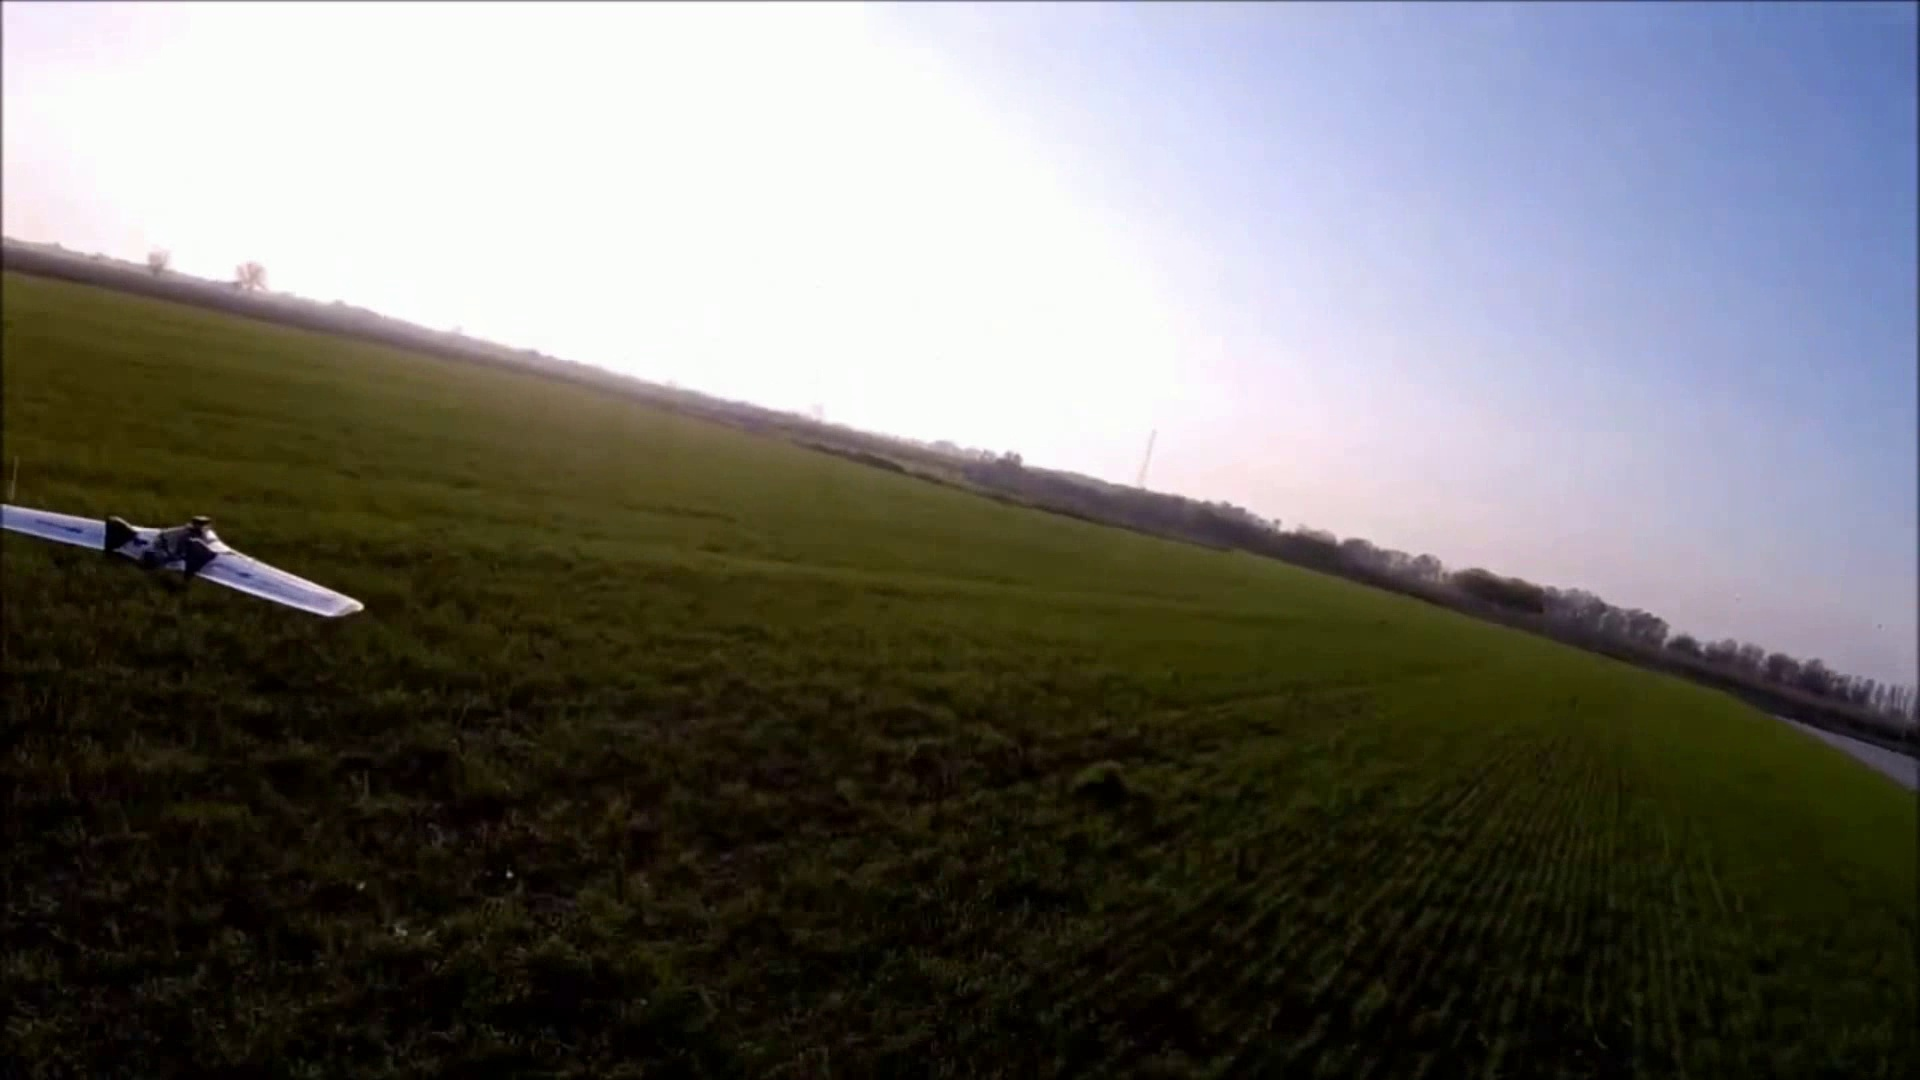airplane: (0, 506, 364, 621)
